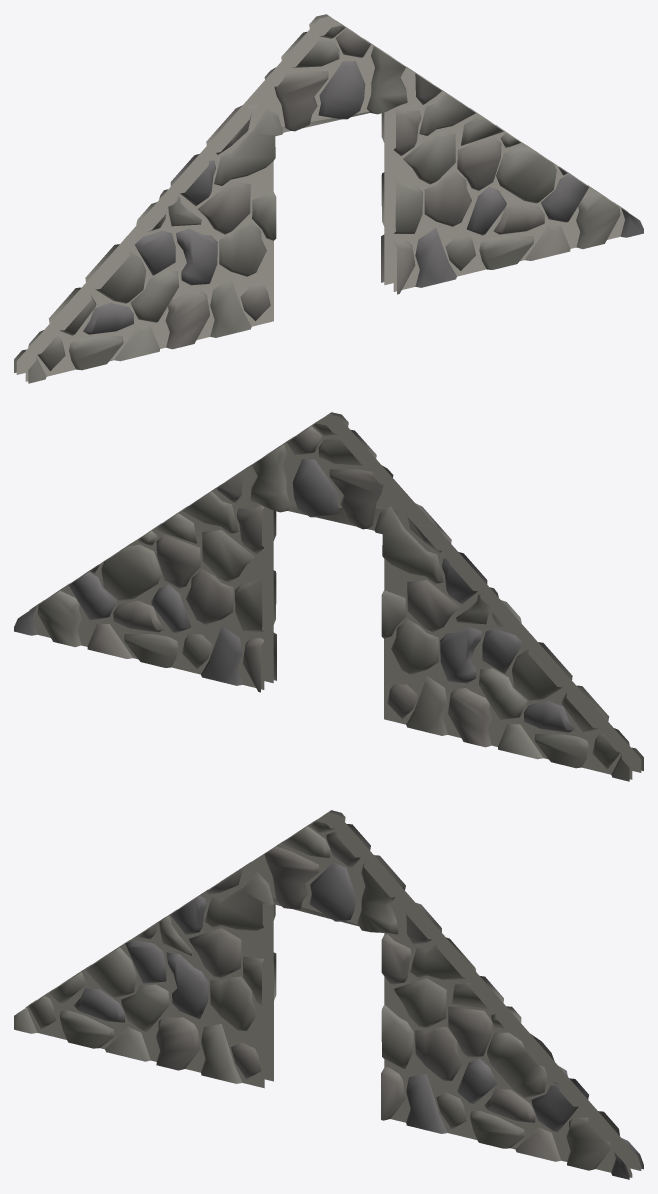
File: rpgpp_ag_roof_end_01_9x4_wall_door_04a.fbx
3 views of the same model, one above another, from view 1: azimuth 30°, elevation 25°; view 2: azimuth 150°, elevation 25°; view 3: azimuth 330°, elevation 25° (orthographic).
Parts seen in each view (by area): view 1: rpgpp_ag_roof_end_01_9x4_wall_door_04a; view 2: rpgpp_ag_roof_end_01_9x4_wall_door_04a; view 3: rpgpp_ag_roof_end_01_9x4_wall_door_04a.
Part boxes in pixels (x1=…): rpgpp_ag_roof_end_01_9x4_wall_door_04a: x1=14, y1=14, x2=643, y2=383; rpgpp_ag_roof_end_01_9x4_wall_door_04a: x1=14, y1=412, x2=643, y2=781; rpgpp_ag_roof_end_01_9x4_wall_door_04a: x1=14, y1=810, x2=643, y2=1179.
Size of the model in its own units: 9 by 3.95 by 0.404.
